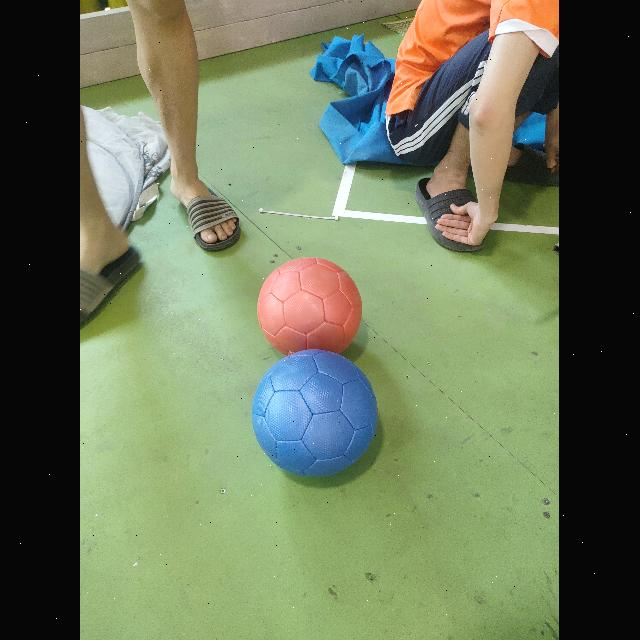B: (252, 349, 378, 476)
R: (257, 257, 362, 355)
